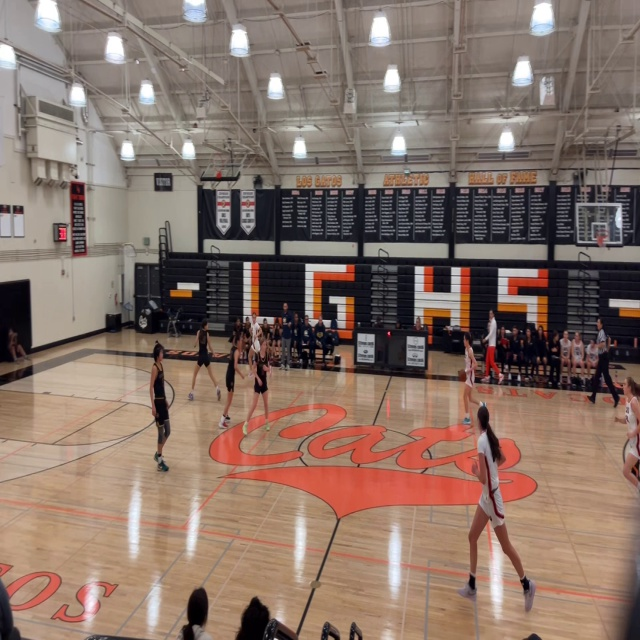Basketball: (458, 370, 466, 381)
